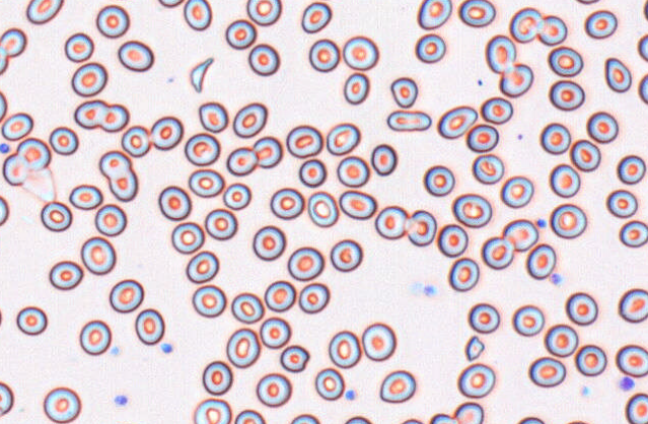PLT: (618, 376, 637, 393), (111, 393, 130, 407), (425, 285, 441, 298), (534, 217, 550, 229), (108, 345, 121, 359), (345, 389, 359, 402), (160, 342, 173, 355), (551, 272, 563, 286), (0, 139, 9, 154)
RBC: (98, 150, 138, 201), (73, 99, 129, 132), (43, 386, 81, 423), (80, 236, 116, 275), (452, 193, 492, 228), (226, 327, 260, 368), (457, 362, 495, 398), (361, 322, 396, 361), (437, 105, 477, 139), (549, 203, 587, 238), (71, 61, 107, 97), (287, 246, 324, 281), (232, 101, 267, 138), (285, 124, 323, 158), (108, 278, 144, 313), (255, 372, 291, 407), (342, 35, 378, 70), (379, 369, 416, 403), (328, 330, 361, 368), (184, 132, 220, 166), (509, 6, 542, 43), (485, 34, 516, 73), (499, 62, 533, 97), (157, 185, 191, 220), (502, 218, 538, 251), (252, 224, 285, 260), (548, 79, 585, 111), (528, 356, 566, 387), (544, 323, 578, 357), (374, 205, 408, 239), (95, 4, 129, 38), (150, 115, 183, 150), (191, 284, 226, 317), (325, 122, 360, 155), (547, 45, 583, 77), (79, 319, 111, 355), (405, 209, 436, 246), (117, 40, 154, 71), (307, 190, 338, 227), (338, 189, 376, 219), (16, 137, 50, 170), (185, 250, 219, 283), (170, 221, 204, 254), (329, 238, 362, 272), (565, 291, 598, 325), (269, 187, 304, 219), (525, 243, 556, 279), (134, 308, 164, 345), (481, 236, 514, 269), (94, 203, 127, 236), (500, 175, 533, 208), (549, 163, 580, 198), (511, 304, 544, 336), (615, 344, 647, 377), (204, 208, 237, 240), (574, 344, 607, 376), (336, 155, 369, 187), (437, 223, 468, 257), (230, 292, 264, 323), (448, 257, 479, 291), (308, 38, 339, 72), (48, 260, 83, 290), (202, 360, 232, 395), (188, 168, 224, 197), (386, 109, 431, 132), (263, 280, 295, 312), (539, 122, 571, 154), (586, 111, 618, 143), (248, 43, 279, 76), (471, 153, 504, 184), (570, 139, 601, 172), (618, 288, 647, 323), (458, 0, 495, 27), (259, 316, 290, 348), (40, 200, 72, 231), (301, 1, 332, 33), (423, 164, 454, 196), (467, 302, 499, 333), (121, 124, 151, 157), (314, 367, 344, 400), (252, 135, 282, 168), (584, 9, 617, 39), (193, 397, 231, 423), (417, 0, 451, 29), (604, 57, 633, 91), (225, 18, 256, 49), (298, 282, 329, 313), (537, 14, 567, 46), (1, 111, 33, 141), (198, 101, 228, 133), (389, 76, 419, 108), (466, 123, 499, 152), (25, 0, 64, 24), (226, 146, 257, 176), (16, 305, 47, 335), (606, 188, 637, 218), (480, 96, 513, 124), (68, 183, 102, 210), (246, 0, 281, 26), (64, 32, 94, 62), (415, 33, 445, 63), (370, 143, 397, 176), (2, 152, 28, 186), (183, 0, 212, 30), (48, 126, 78, 155), (616, 154, 645, 184), (618, 219, 647, 248), (343, 72, 369, 104), (222, 182, 251, 210), (298, 158, 326, 187), (0, 27, 26, 57), (625, 392, 647, 423), (453, 401, 484, 423), (0, 381, 14, 416), (234, 409, 265, 423), (428, 412, 457, 423), (290, 413, 320, 423), (0, 194, 9, 226), (637, 33, 647, 61), (638, 73, 647, 104), (0, 45, 8, 75), (343, 415, 372, 423), (0, 89, 7, 121), (515, 416, 545, 423), (157, 0, 183, 7), (563, 419, 591, 424), (112, 420, 146, 424), (398, 418, 424, 423), (575, 0, 600, 5), (643, 0, 648, 20), (0, 303, 3, 330)
Schistocyte: (191, 56, 216, 93), (281, 345, 311, 373), (465, 335, 485, 360)
